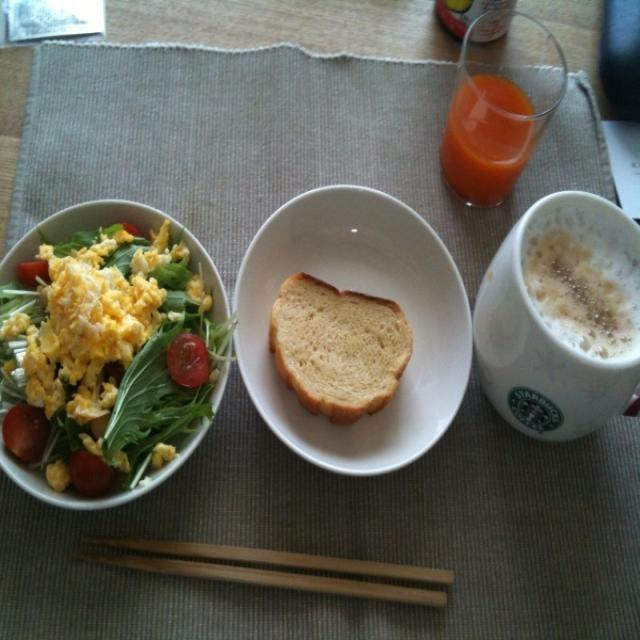Green Salad: (1, 198, 233, 502)
